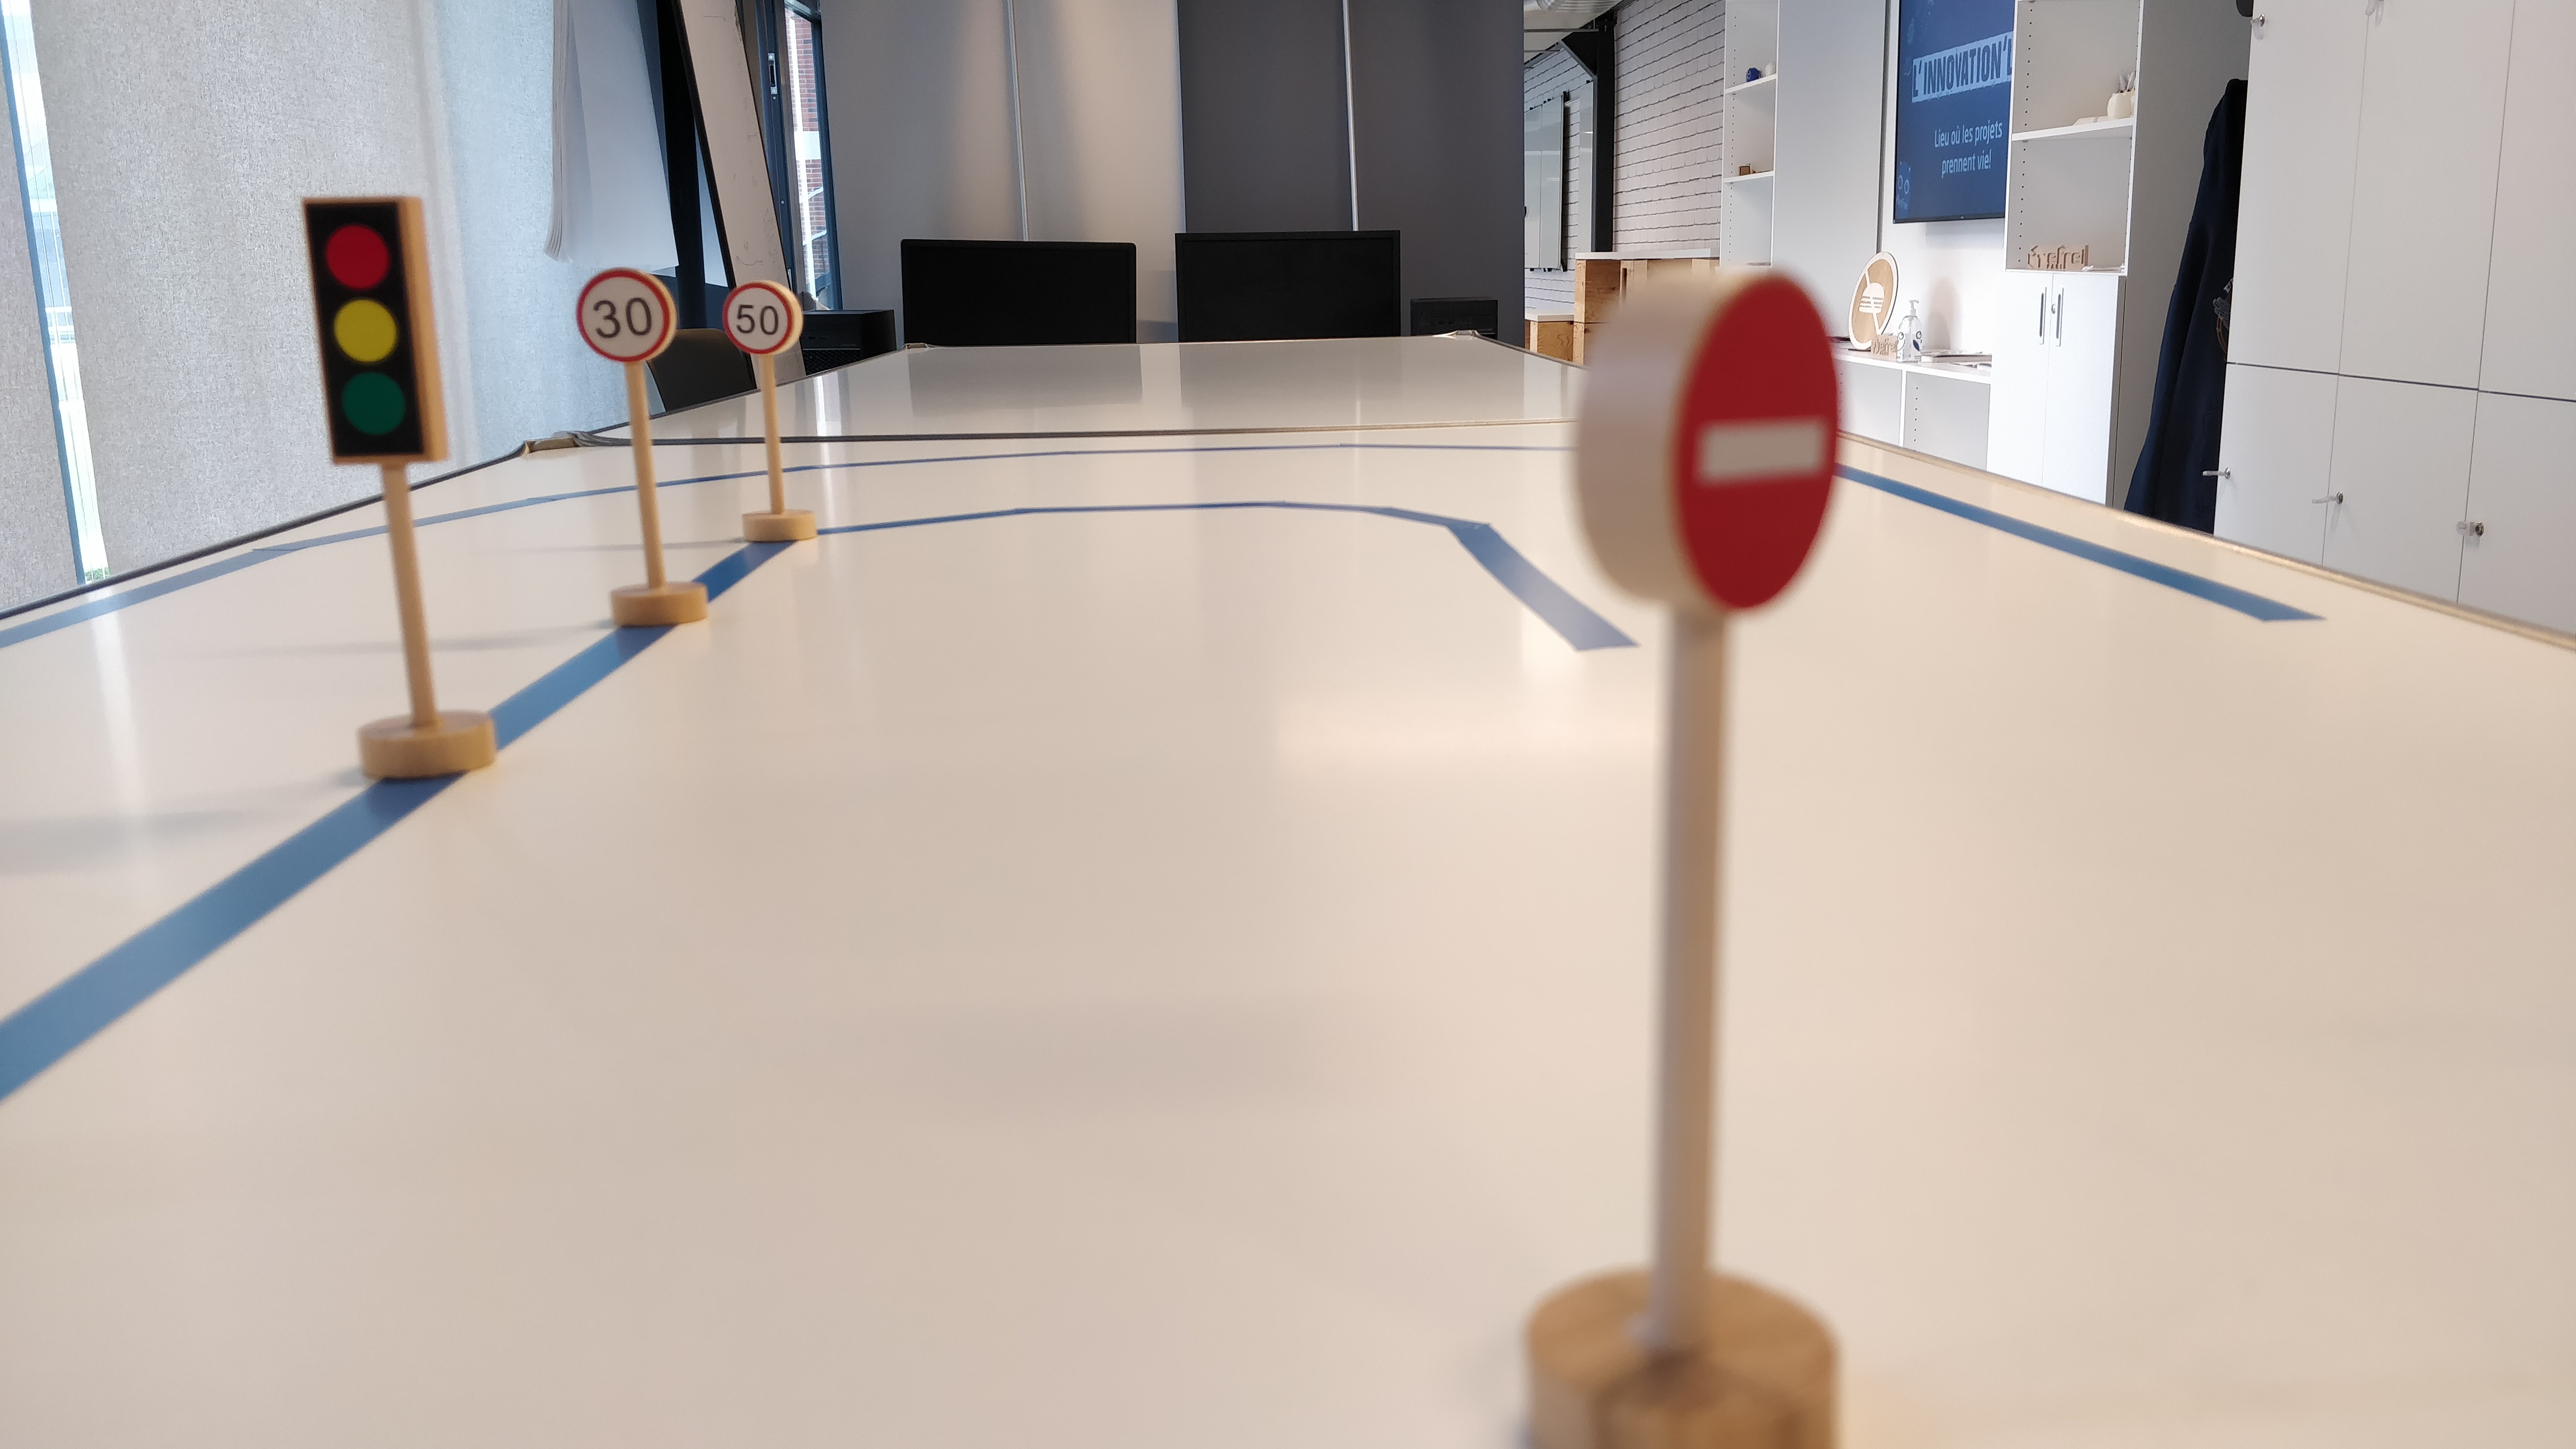Prohibition Sign: (1572, 263, 1844, 616)
Speed Limit 30: (572, 264, 680, 366)
Speed Limit 50: (721, 278, 805, 358)
Traffic Light: (293, 191, 454, 467)
